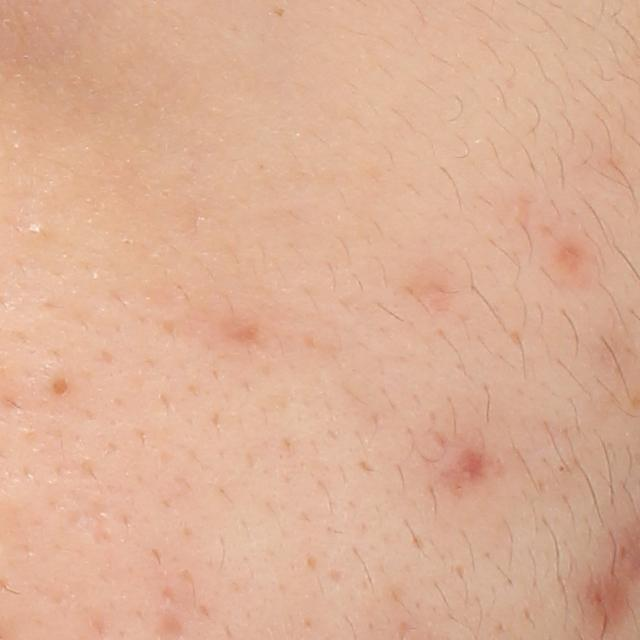comedo: (38, 362, 82, 407), (27, 222, 49, 247)
